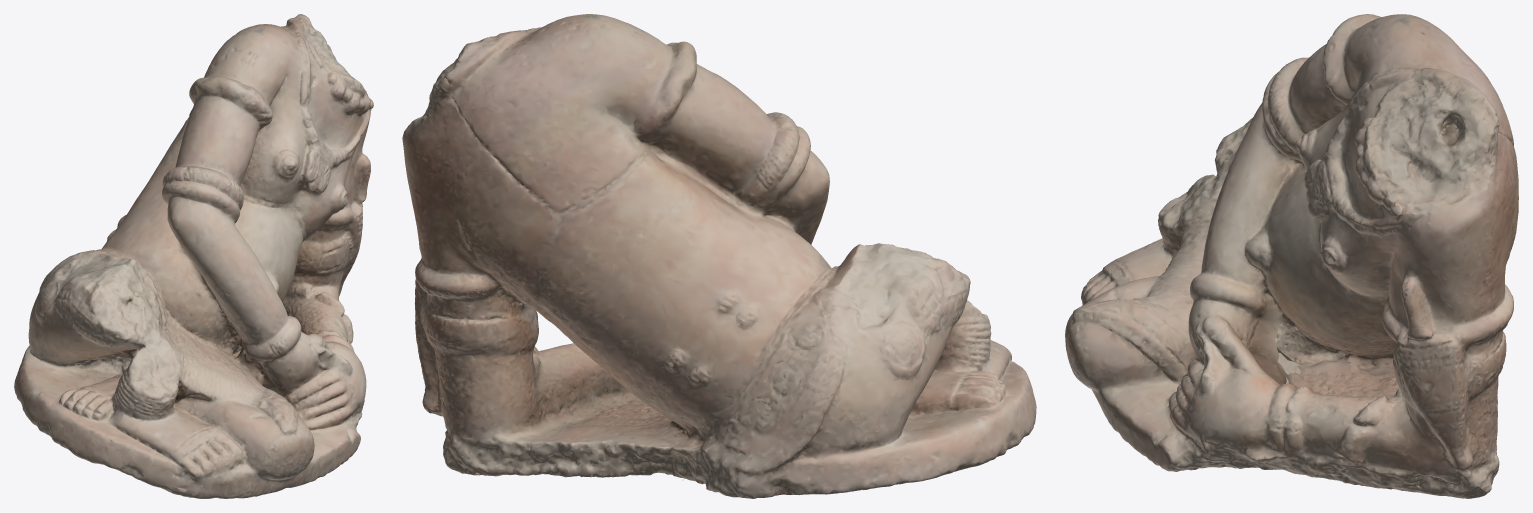
File: preview.glb
3 views of the same model, side by side, from view 1: azimuth 30°, elevation 25°; view 2: azimuth 150°, elevation 25°; view 3: azimuth 270°, elevation 25° (orthographic). The views are drawn at different scales.
Visible parts, largest first — view 1: Object_2; view 2: Object_2; view 3: Object_2.
Part boxes in pixels (x1,y1,x2,y2): Object_2: (14, 14, 373, 498); Object_2: (402, 14, 1036, 498); Object_2: (1065, 14, 1518, 498).
Size of the model in its own units: 5.11 by 4.46 by 4.06.
